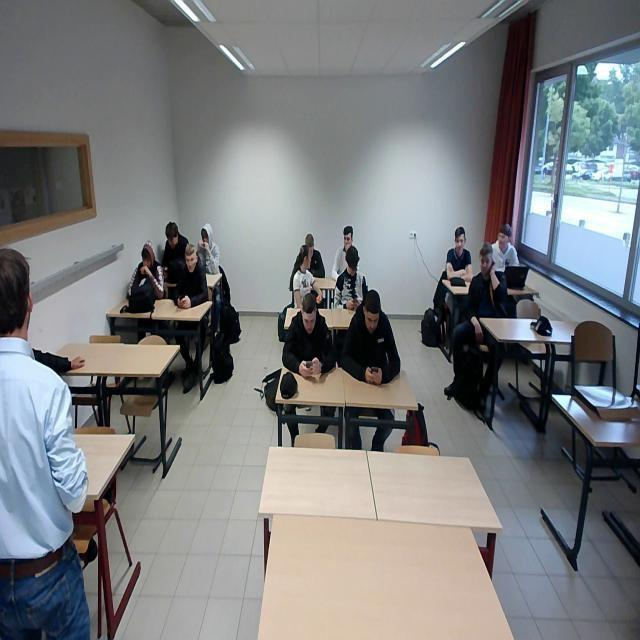phone_use: (340, 289, 398, 383), (281, 293, 334, 376), (333, 245, 366, 308)
